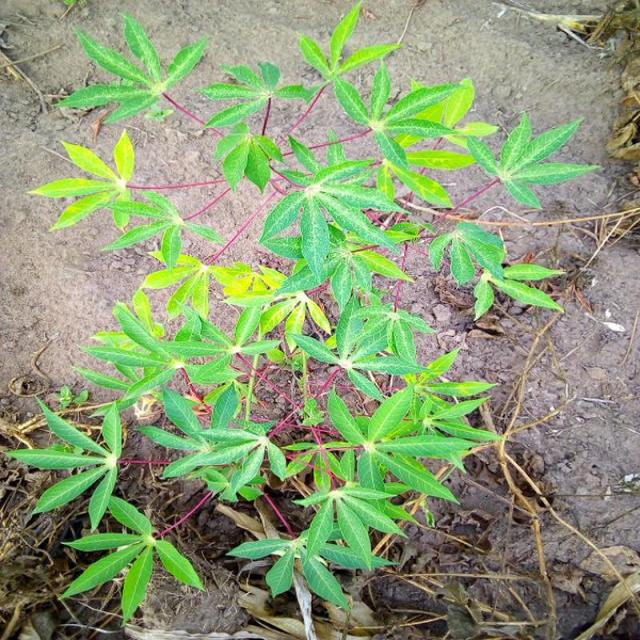cassava leaf: (11, 1, 596, 624), (464, 110, 602, 210)
